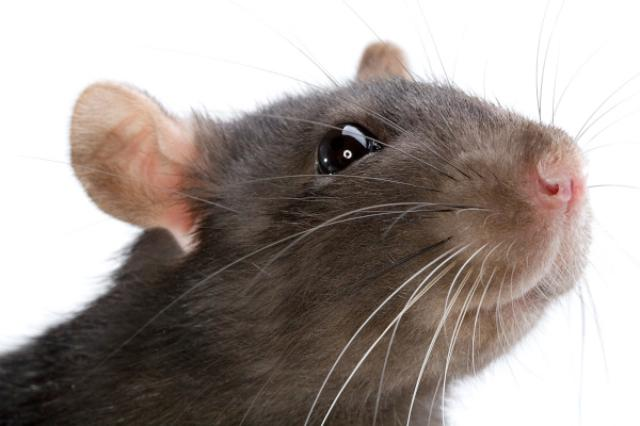rat: (0, 33, 610, 425)
